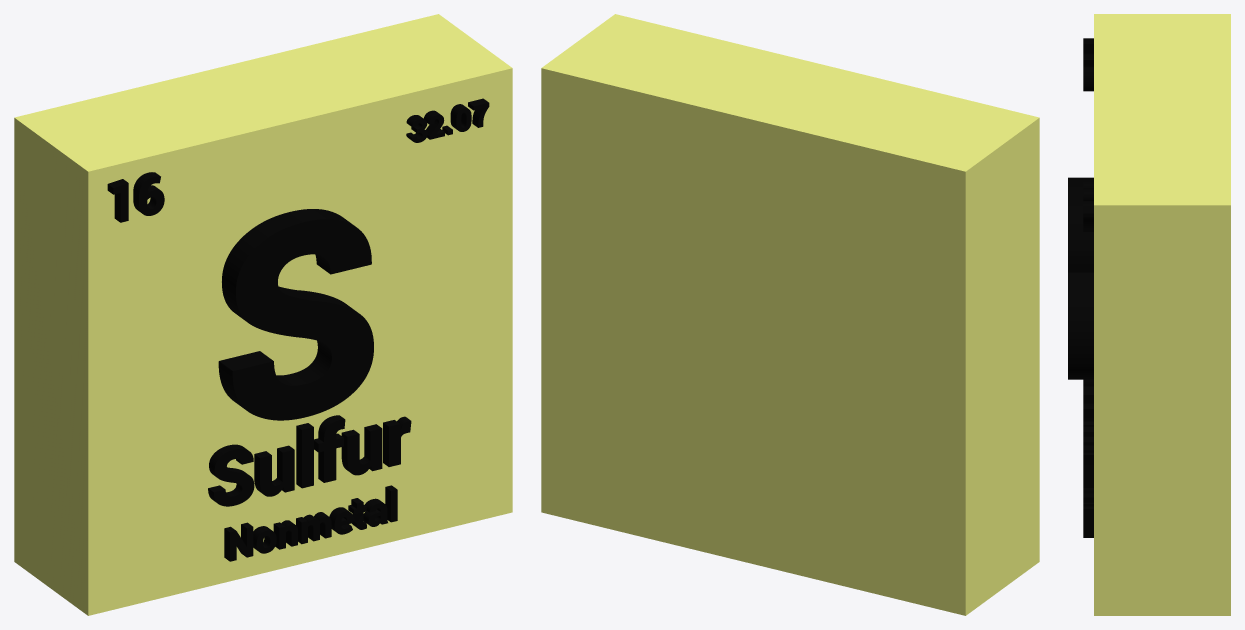
3 renders of one model, left to right at view 1: azimuth 30°, elevation 25°; view 2: azimuth 150°, elevation 25°; view 3: azimuth 270°, elevation 25°, orthographic. The views are drawn at different scales.
Visible parts, largest first — view 1: Cube, Text, Text.001, Text.002, Text.004, Text.003; view 2: Cube; view 3: Cube, Text, Text.001, Text.003, Text.004, Text.002.
Part boxes in pixels (x1,y1,x2,y2): Cube: (14, 14, 512, 615); Text: (218, 209, 373, 420); Text.001: (208, 415, 411, 506); Text.002: (224, 485, 397, 561); Text.004: (406, 98, 489, 142); Text.003: (107, 172, 164, 222); Cube: (541, 14, 1039, 615); Cube: (1094, 14, 1230, 615); Text: (1068, 177, 1093, 379); Text.001: (1083, 379, 1093, 487); Text.003: (1083, 38, 1093, 91); Text.004: (1083, 181, 1093, 231); Text.002: (1083, 488, 1093, 537).
Size of the model in its own units: 178 by 178 by 63.95.
